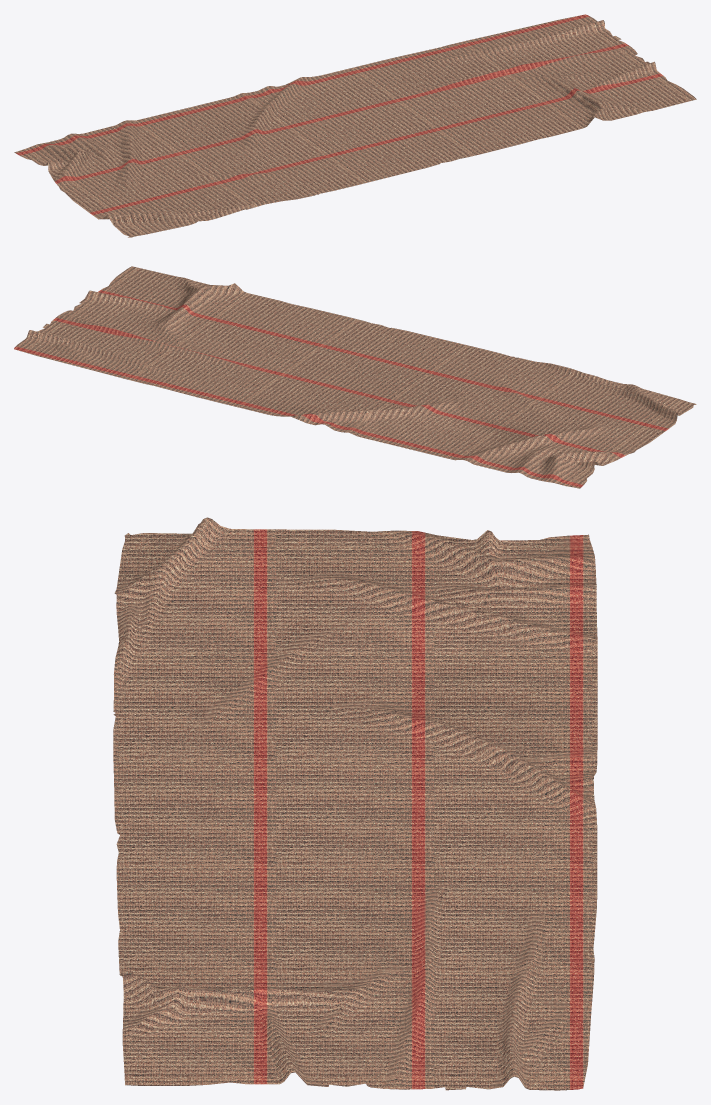
Rendered from Carpet.FBX.
3 renders of one model, top to bottom at view 1: azimuth 30°, elevation 25°; view 2: azimuth 150°, elevation 25°; view 3: azimuth 270°, elevation 25°, orthographic. The views are drawn at different scales.
Visible parts, largest first — view 1: Carpet; view 2: Carpet; view 3: Carpet.
Part boxes in pixels (bbox=[...]): Carpet: bbox=[14, 14, 696, 237]; Carpet: bbox=[14, 266, 696, 488]; Carpet: bbox=[113, 517, 597, 1090].
Bounding box in the file's own units: 383 × 5.47 × 140.
Materials: 1 (1 with a texture image).
